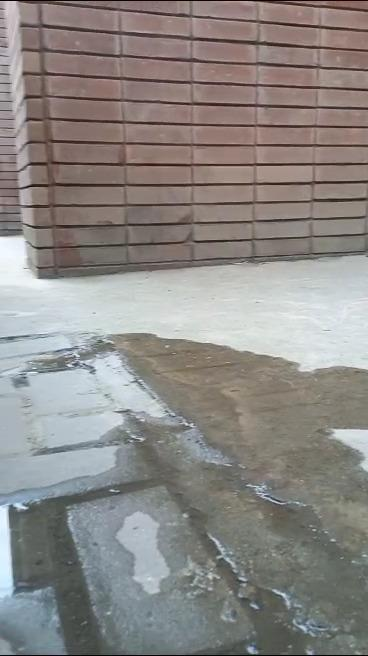water accumulation: (0, 330, 368, 656)
